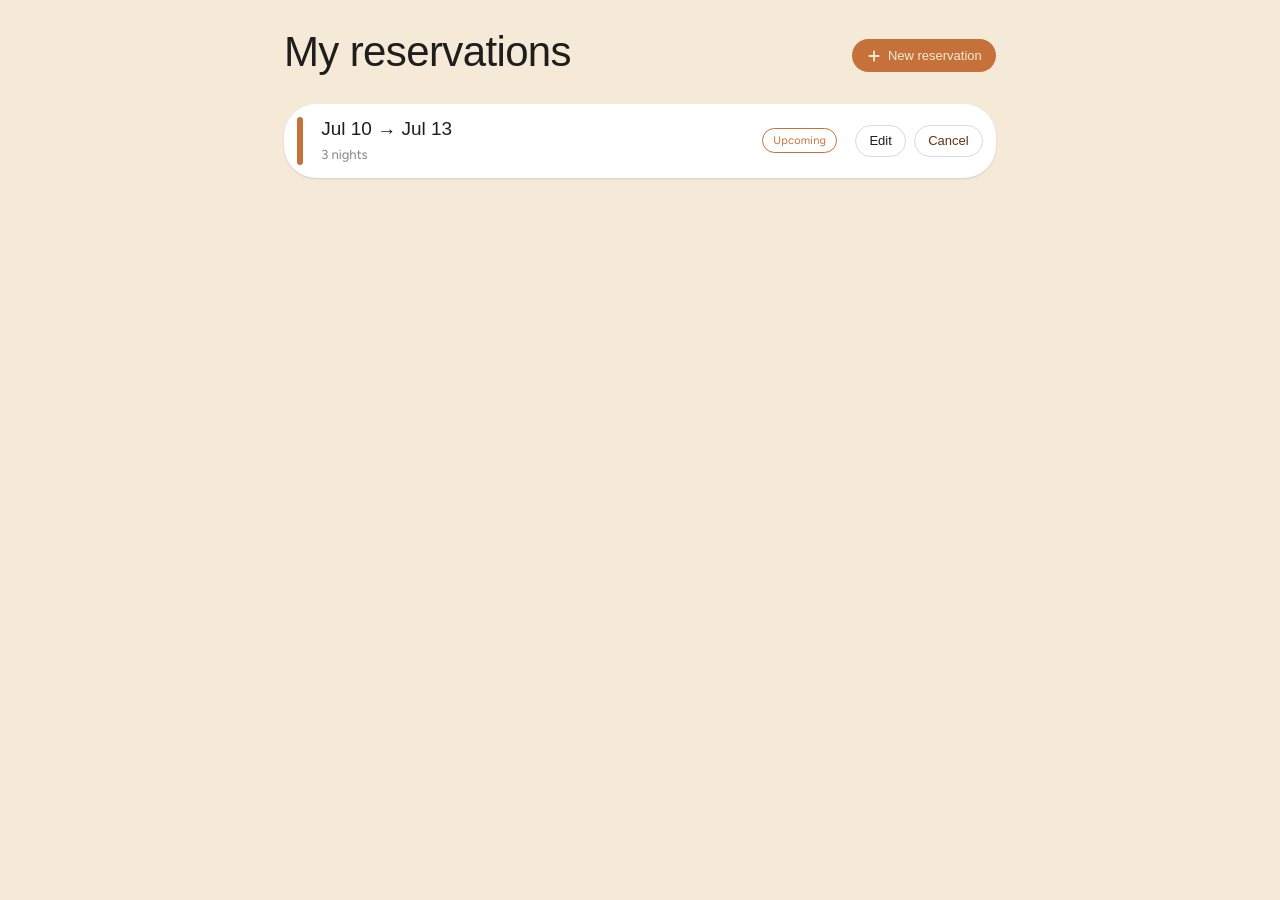
Test case: CAP-023 My reservations › CAP-023 · I can open, change or cancel a listed stay
The width and height of the screenshot is (1280, 900).
Check: the heading "My reservations" is shown, box [284,28,571,75]
Check: the button "Edit" is shown, box [855,125,906,157]
// Pressing the stay itself shows its details.
What coordinates should you click on to do the following:
click the button "Jul 10 → Jul 13 3 nights Upcoming"
I would click on:
 (387, 129)
Its box is [297,117,837,165].
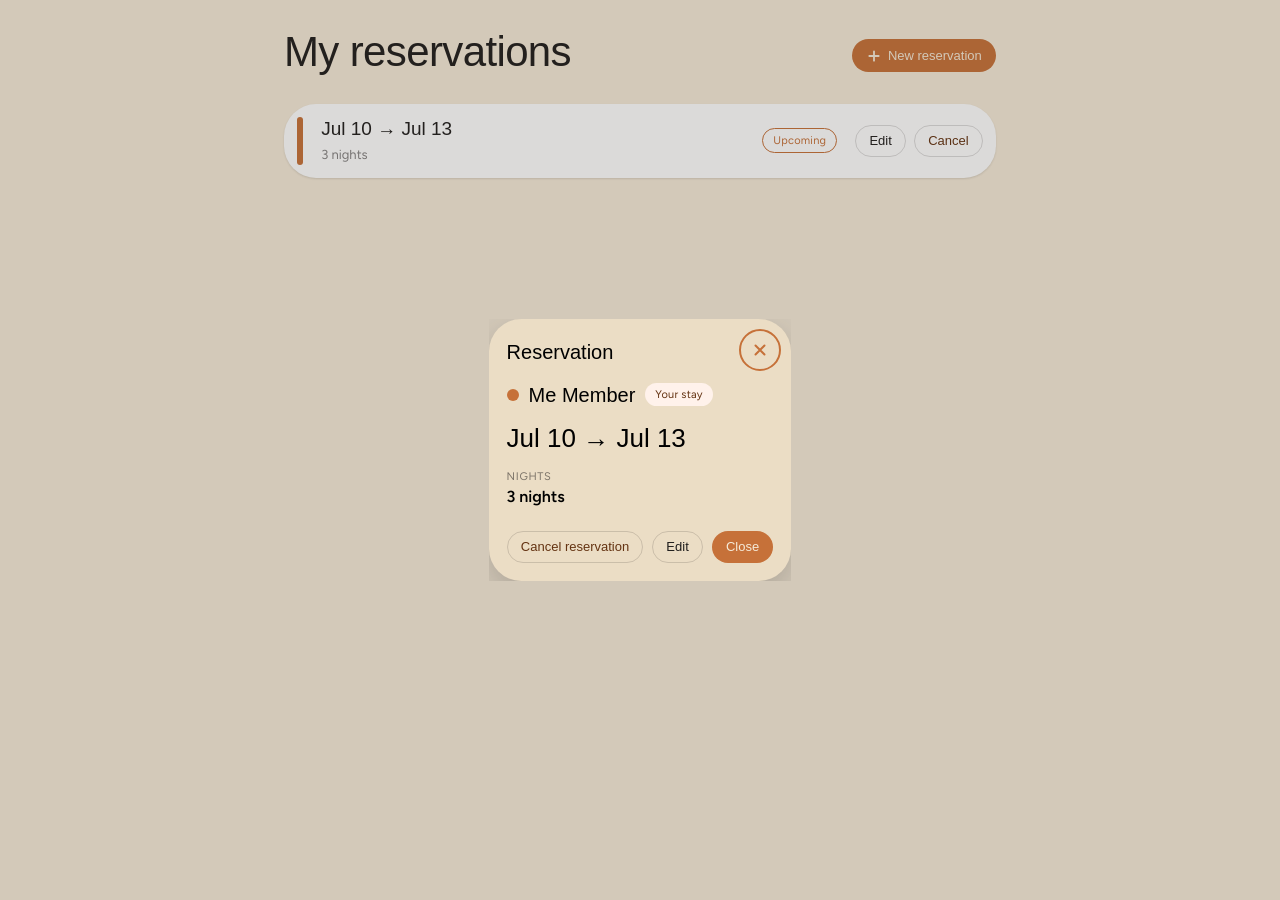
Check: the text "Reservation" is shown, box [507,337,613,368]
Check: the text "Jul 10 → Jul 13" is shown, box [507,423,686,453]
Check: the text "3 nights" is shown, box [507,487,565,506]
